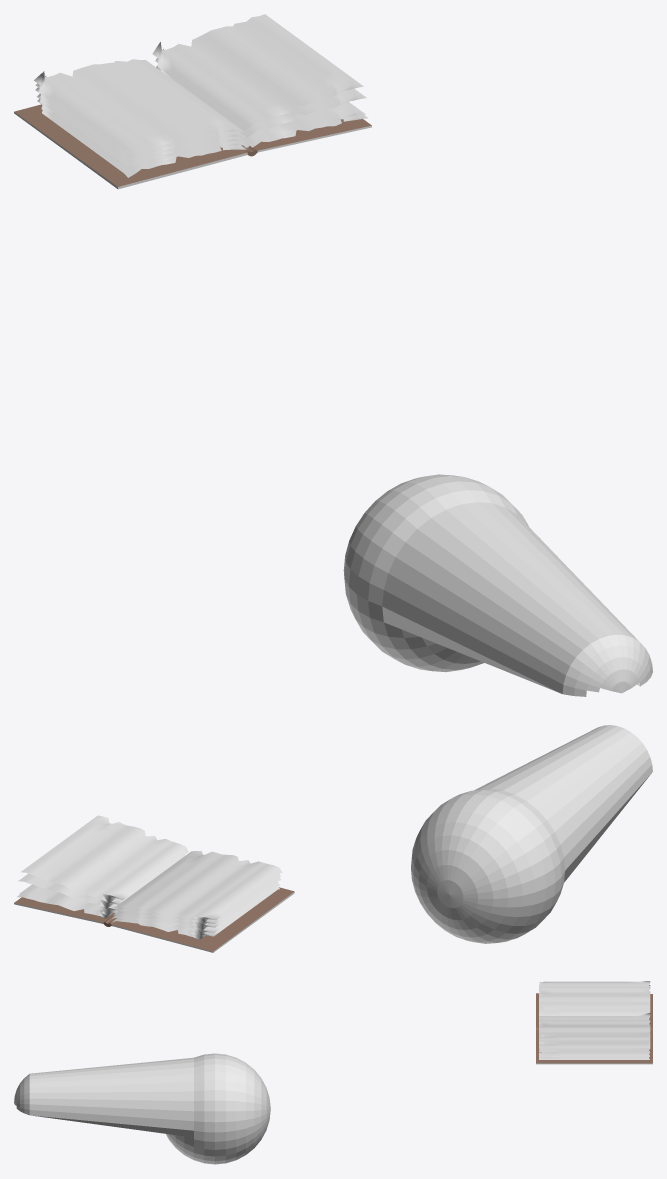
The model's file is ahajradino1_knjiga.fbx.
3 views of the same model, one above another, from view 1: azimuth 30°, elevation 25°; view 2: azimuth 150°, elevation 25°; view 3: azimuth 270°, elevation 25° (orthographic). The views are drawn at different scales.
Parts seen in each view (by area): view 1: Sphere.002, Plane.004, Plane.006, Cube, Plane.003, Plane.000, Plane.001, Plane.002, Plane.005, Plane.052; view 2: Sphere.002, Plane.004, Plane.006, Cube, Plane.003, Plane.000, Plane.001, Plane.002, Plane.005, Plane.052, Plane.053; view 3: Sphere.002, Plane.006, Plane.004, Plane.000, Cube, Plane.003, Plane.053.
Boxes of the visible parts, x1,y1,x2,y2 form: Sphere.002: [343, 474, 652, 696]; Plane.004: [152, 14, 363, 130]; Plane.006: [34, 59, 243, 156]; Cube: [14, 104, 371, 189]; Plane.003: [155, 49, 366, 137]; Plane.000: [156, 65, 365, 146]; Plane.001: [37, 94, 247, 173]; Plane.002: [35, 87, 245, 166]; Plane.005: [35, 76, 245, 161]; Plane.052: [37, 99, 247, 177]; Sphere.002: [411, 725, 652, 943]; Plane.004: [20, 815, 188, 903]; Plane.006: [114, 851, 282, 924]; Cube: [14, 887, 294, 952]; Plane.003: [18, 855, 185, 908]; Plane.000: [19, 884, 118, 915]; Plane.001: [112, 882, 279, 936]; Plane.002: [113, 877, 280, 931]; Plane.005: [113, 874, 280, 927]; Plane.052: [112, 886, 279, 940]; Plane.053: [17, 894, 117, 918]; Sphere.002: [14, 1053, 270, 1164]; Plane.006: [539, 981, 650, 1016]; Plane.004: [539, 1013, 650, 1040]; Plane.000: [539, 1023, 650, 1056]; Cube: [536, 993, 652, 1064]; Plane.003: [539, 1018, 650, 1047]; Plane.053: [539, 1046, 650, 1059].
Bounding box in the file's own units: 351 × 351 × 1149.
